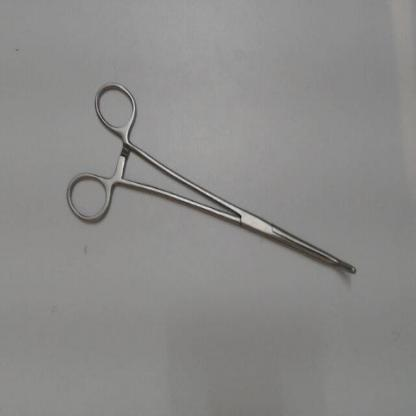Lahey Forceps: (62, 76, 363, 284)
